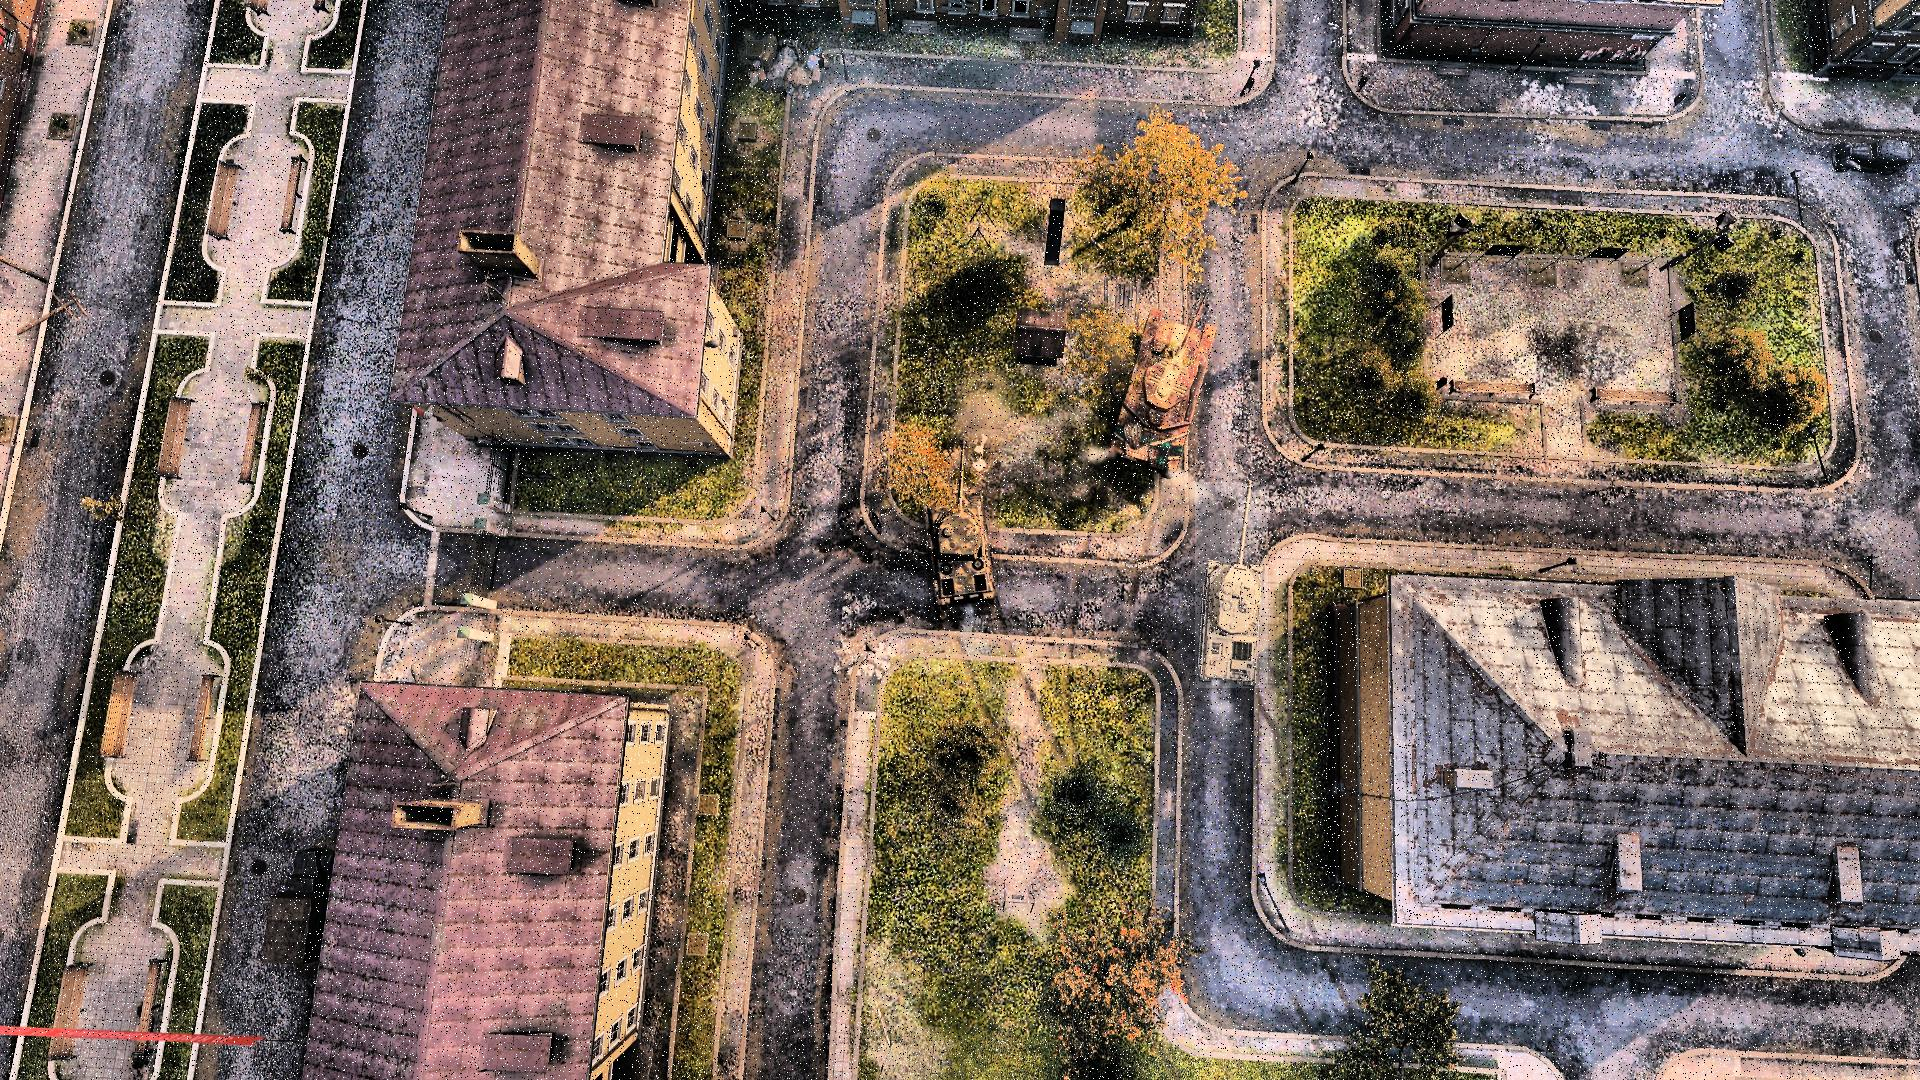military-vehicle: (1110, 293, 1220, 475), (1195, 481, 1269, 688), (928, 438, 1000, 607)
